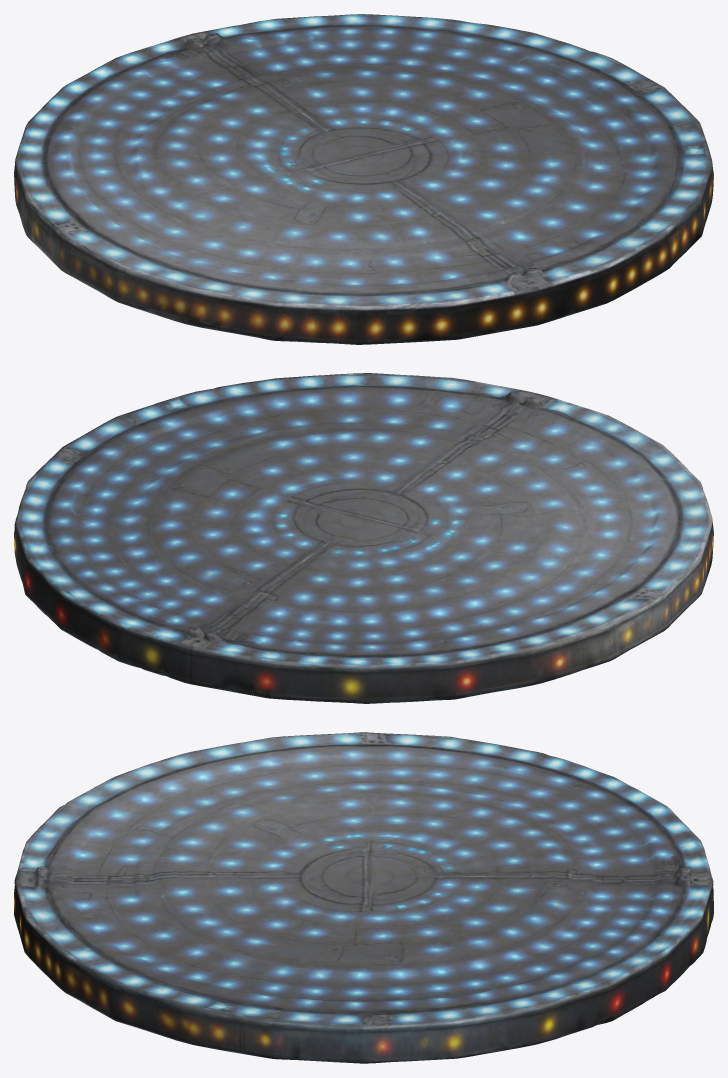
Rendered from pedestal_glowing.glb.
3 views of the same model, one above another, from view 1: azimuth 30°, elevation 25°; view 2: azimuth 150°, elevation 25°; view 3: azimuth 270°, elevation 25° (orthographic).
Visible parts, largest first — view 1: Mesh1; view 2: Mesh1; view 3: Mesh1.
Part boxes in pixels (<box>): Mesh1: <box>14,14,713,344</box>; Mesh1: <box>14,373,713,703</box>; Mesh1: <box>14,732,713,1063</box>.
Bounding box in the file's own units: 2 × 0.1839 × 2.
Materials: 1 (1 with a texture image).
